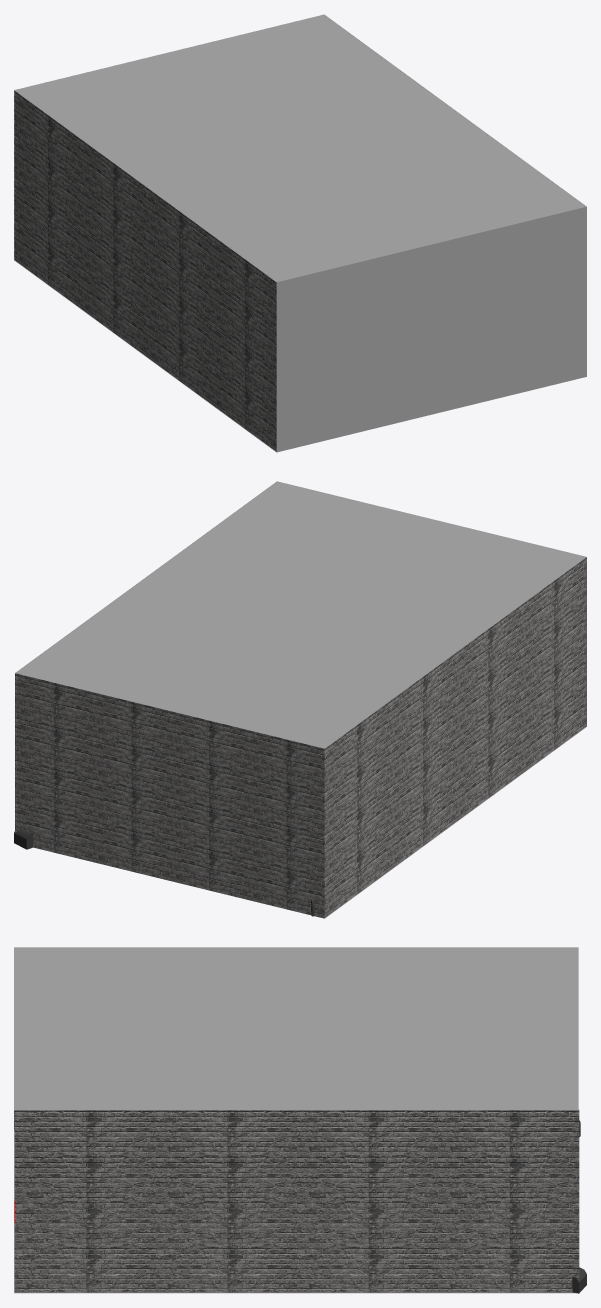
Rendered from houmotuko.fbx.
The picture shows the model from 3 angles, top to bottom: view 1: azimuth 30°, elevation 25°; view 2: azimuth 150°, elevation 25°; view 3: azimuth 270°, elevation 25°; orthographic projection. The views are drawn at different scales.
Visible parts, largest first — view 1: pPlane7, pPlane3, pPlane9; view 2: pPlane7, pPlane8, pPlane9; view 3: pPlane10, pPlane7, polySurface6.
Boxes of the visible parts, left/top/right/bottom form: pPlane7: left=14, top=14, right=586, bottom=282; pPlane3: left=276, top=206, right=586, bottom=452; pPlane9: left=14, top=91, right=276, bottom=451; pPlane7: left=15, top=481, right=586, bottom=748; pPlane8: left=15, top=673, right=324, bottom=918; pPlane9: left=324, top=557, right=586, bottom=917; pPlane10: left=14, top=1110, right=579, bottom=1292; pPlane7: left=14, top=947, right=578, bottom=1110; polySurface6: left=14, top=1130, right=575, bottom=1293.
Size of the model in its own units: 542 by 284 by 804.
